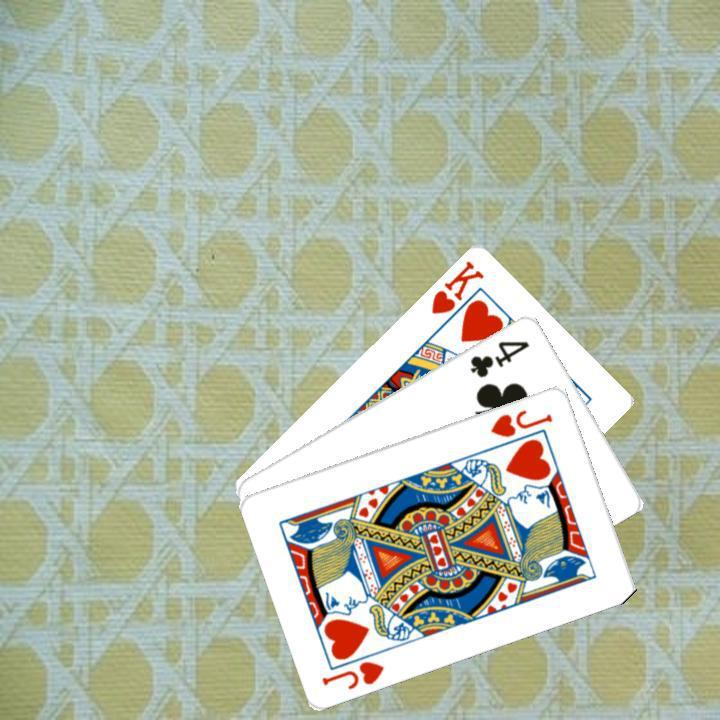4: (465, 335, 532, 379)
J: (486, 404, 555, 439), (318, 656, 386, 691)
K: (427, 255, 486, 316)
